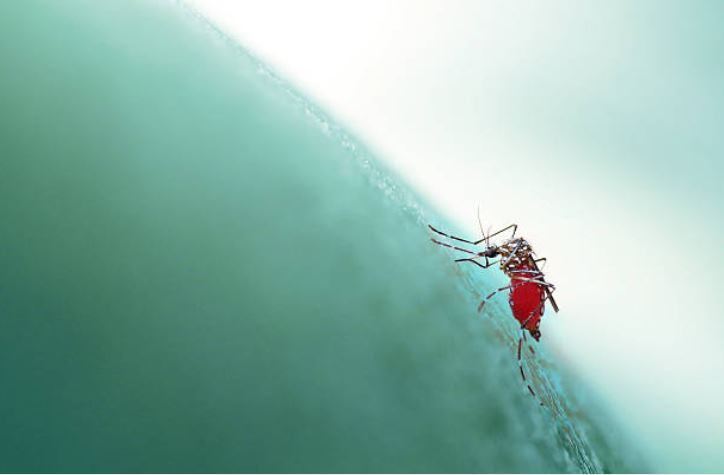dengue_mosquito: (427, 224, 561, 405)
